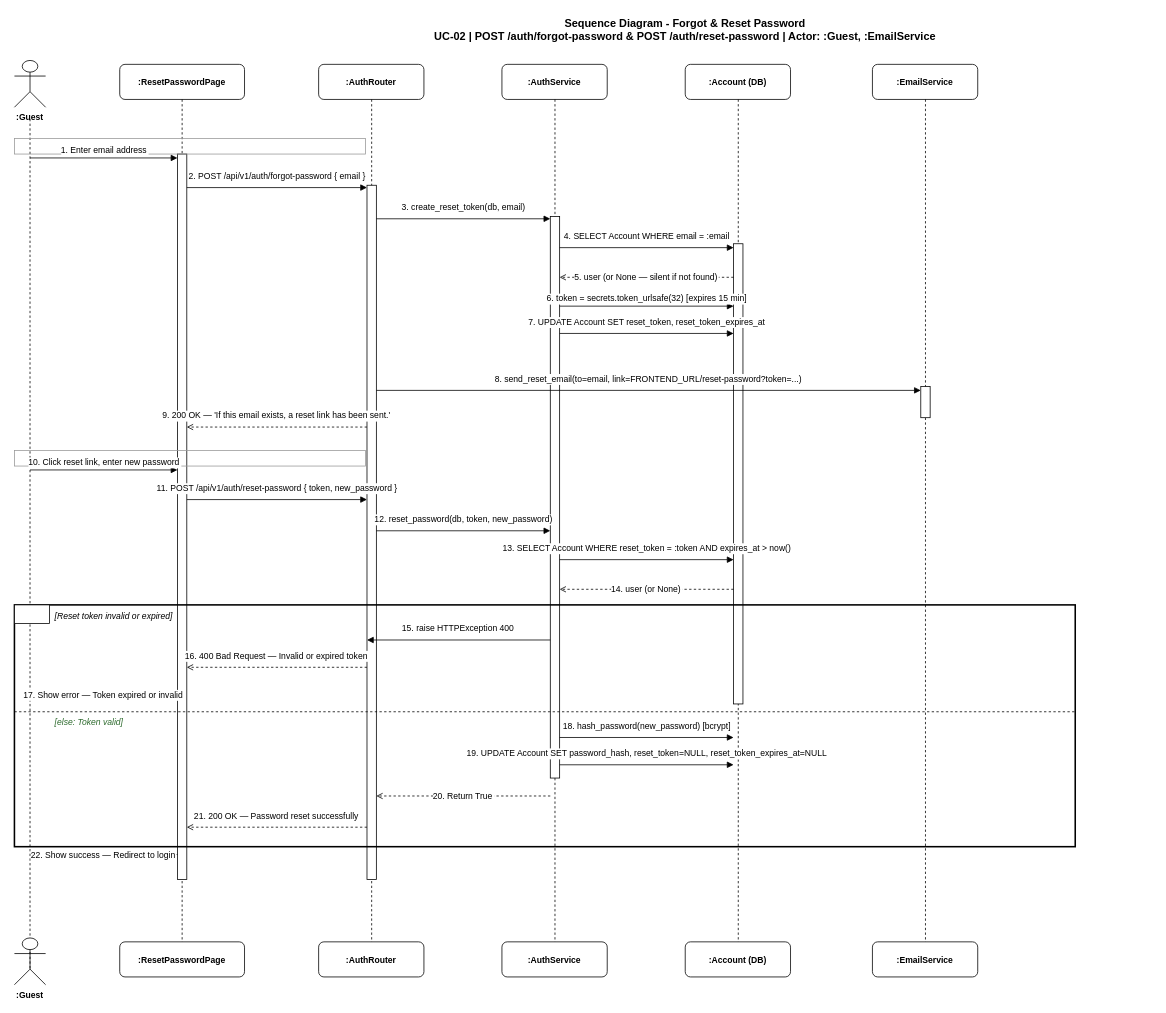
Image size: 1166x1013. Some labels were removed from this diagram. The shapes that lost their labels are listed below. From the top down, each one's box as (x1, y1, x2, y2) in pixels, then its label:
(14, 138, 365, 154): Phase 1: Forgot Password — POST /api/v1/auth/forgot-password
(14, 450, 365, 466): Phase 2: Reset Password — POST /api/v1/auth/reset-password
(14, 604, 50, 624): alt
